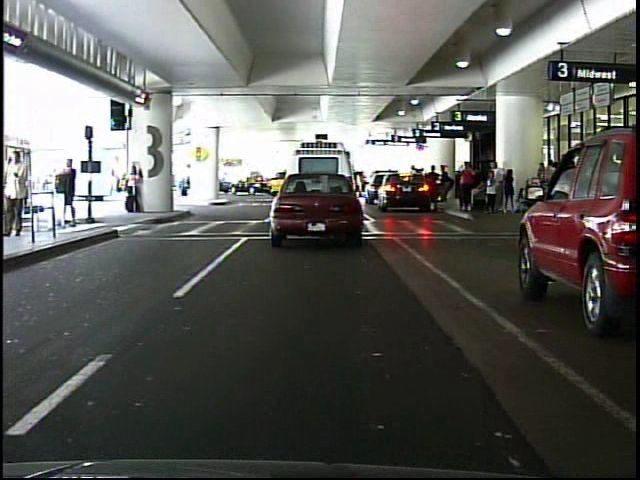person: (5, 149, 38, 243), (60, 154, 84, 231), (124, 162, 145, 215), (173, 160, 198, 202), (458, 162, 476, 215)
